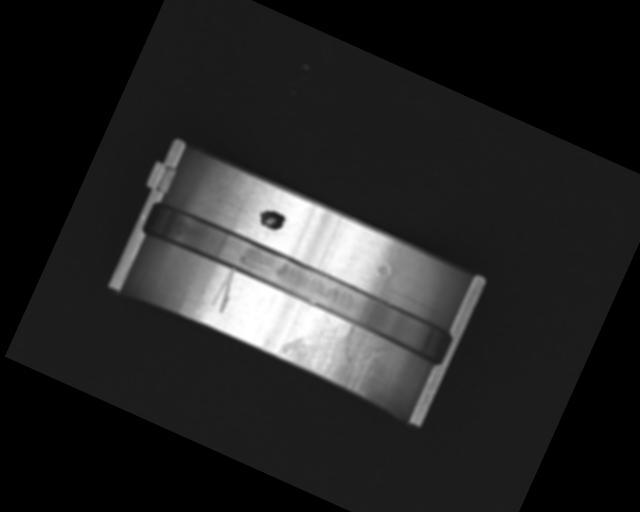blot: (255, 205, 287, 234)
bruise: (373, 259, 394, 282)
gap: (139, 197, 456, 366)
nick: (208, 265, 243, 315)
scratch: (276, 299, 398, 402)
